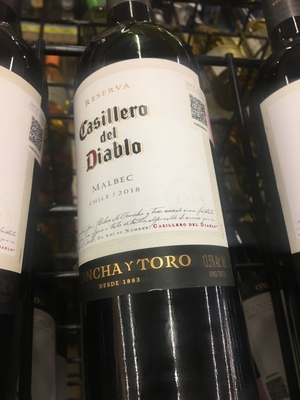casillero del diablo malbec: (63, 22, 235, 351)
